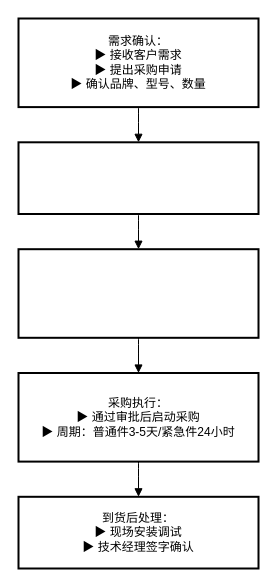
This 276x586 diagram has some shape labels left out. Here are the shapes that lost their labels. From the top down, the centre of each, then its label:
At (138,177): "报价评估： ▶ 转交项目管理部 ▶ 多方比价提供报价".
At (138,293): "审批流程： ▶ 企业微信提交采购审批 ▶ 路径：工作台-审批-备品备件采购".
